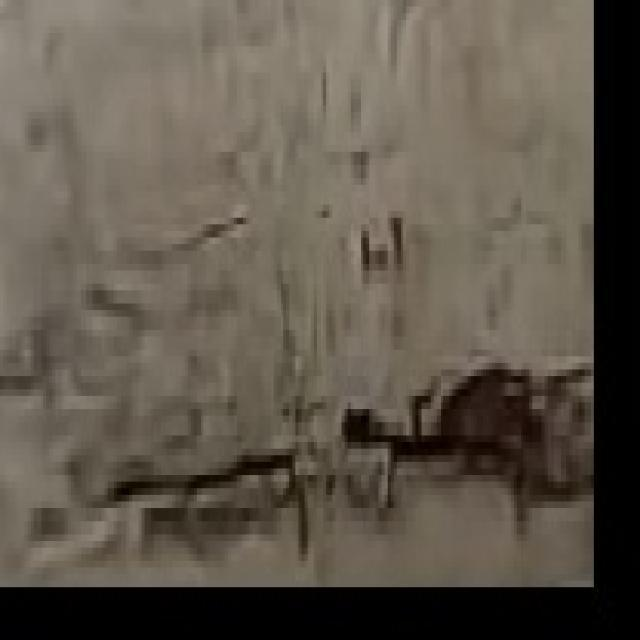crack: (117, 409, 366, 561), (415, 365, 589, 497)
